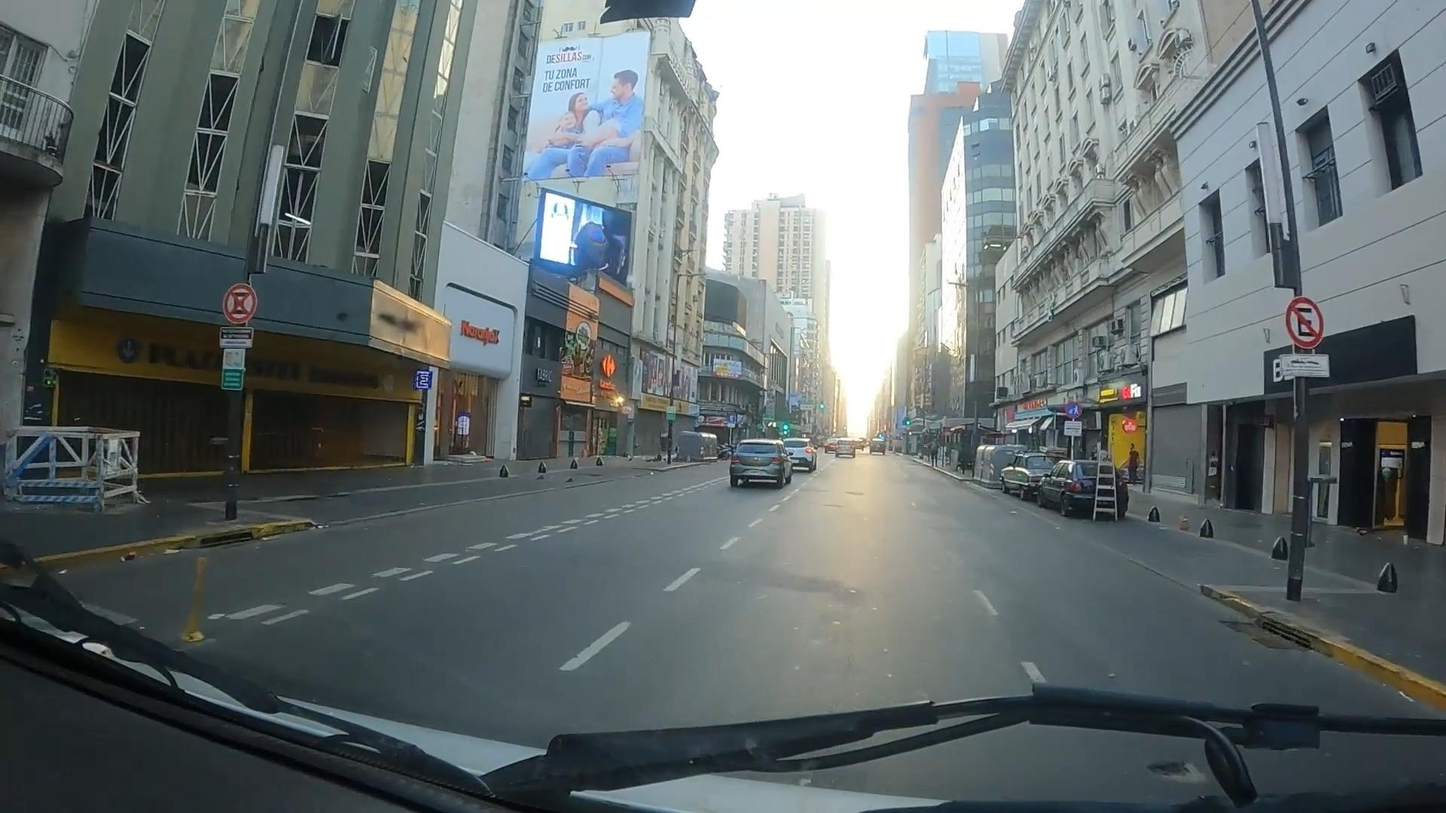Ice: (15, 444, 1444, 751)
